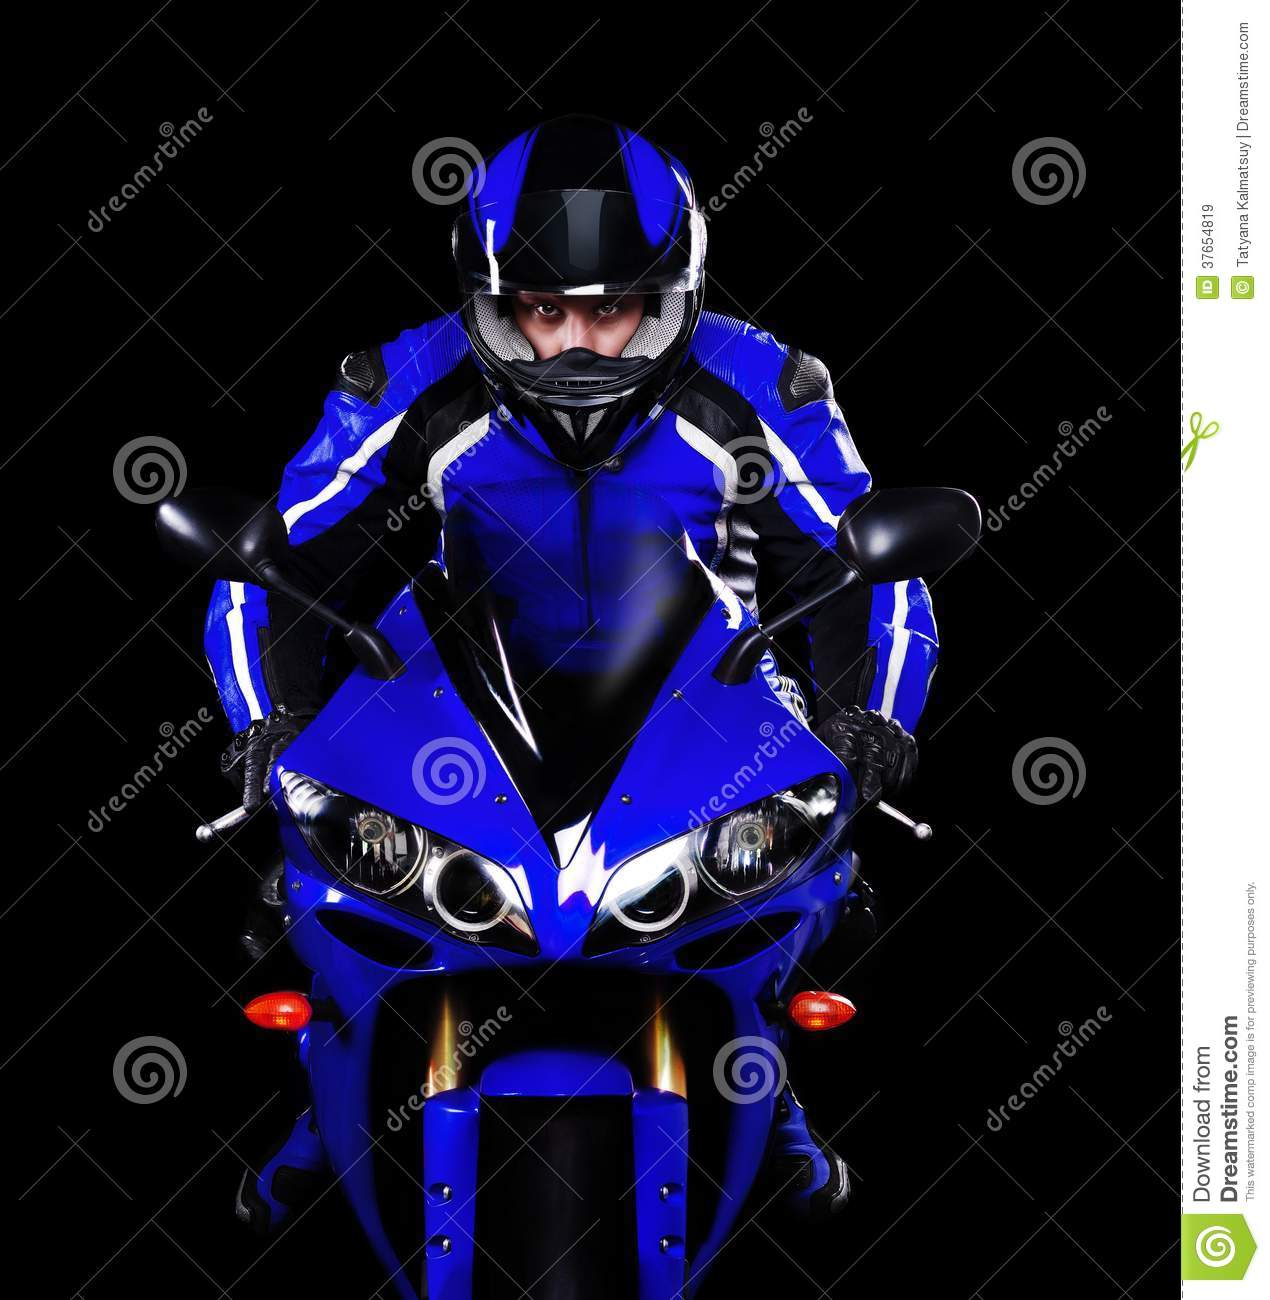helmet: (455, 143, 725, 433)
